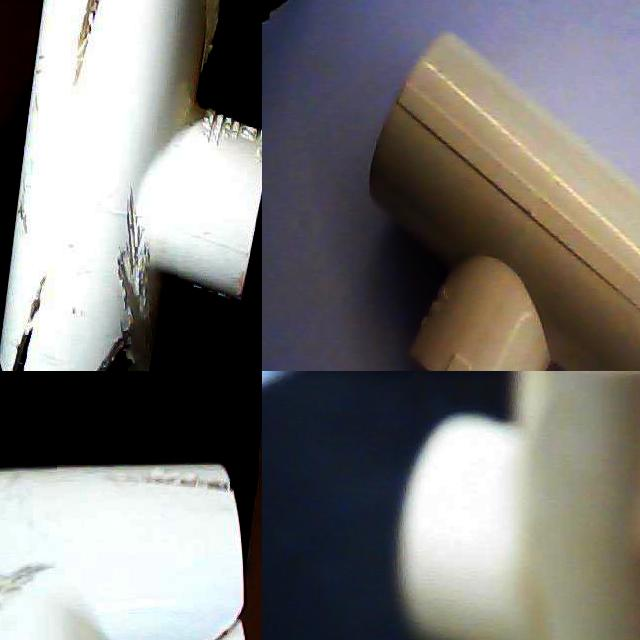Defective: (57, 465, 243, 640), (13, 194, 178, 371), (62, 0, 241, 103), (0, 527, 63, 640), (112, 209, 155, 371), (161, 0, 222, 93), (75, 0, 133, 86), (103, 308, 157, 371), (12, 296, 43, 371)
T Joint: (368, 32, 640, 371), (0, 464, 246, 640)
